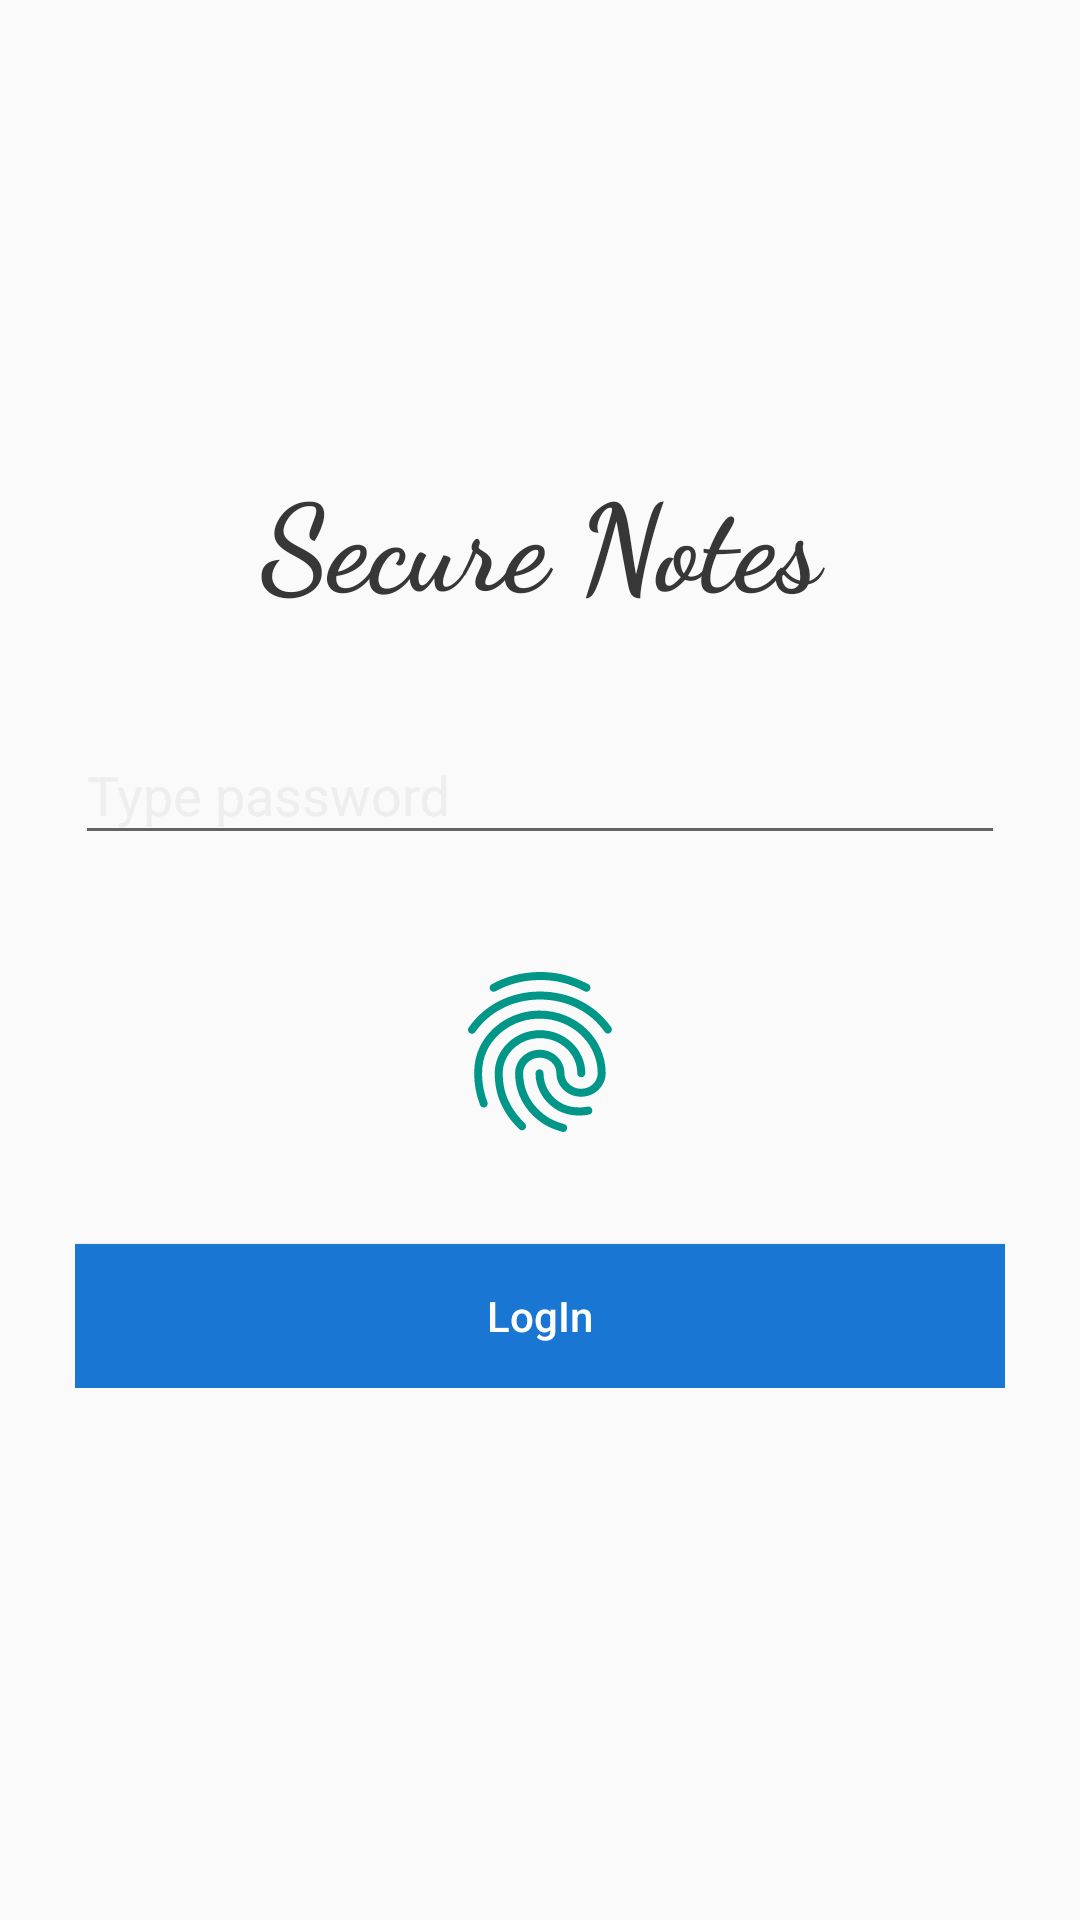

Icons on this 1080w x 1920h Android screen, each with the point to tap as [x,y]:
fingerprint: [540,1052]
